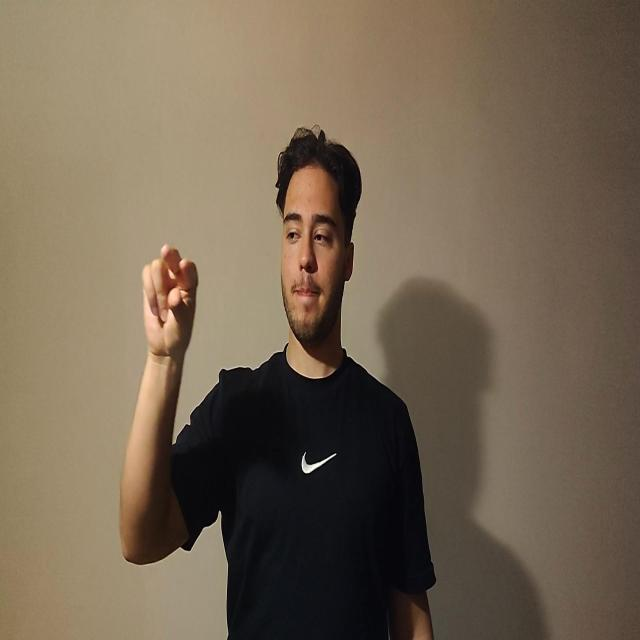no: (141, 243, 198, 361)
